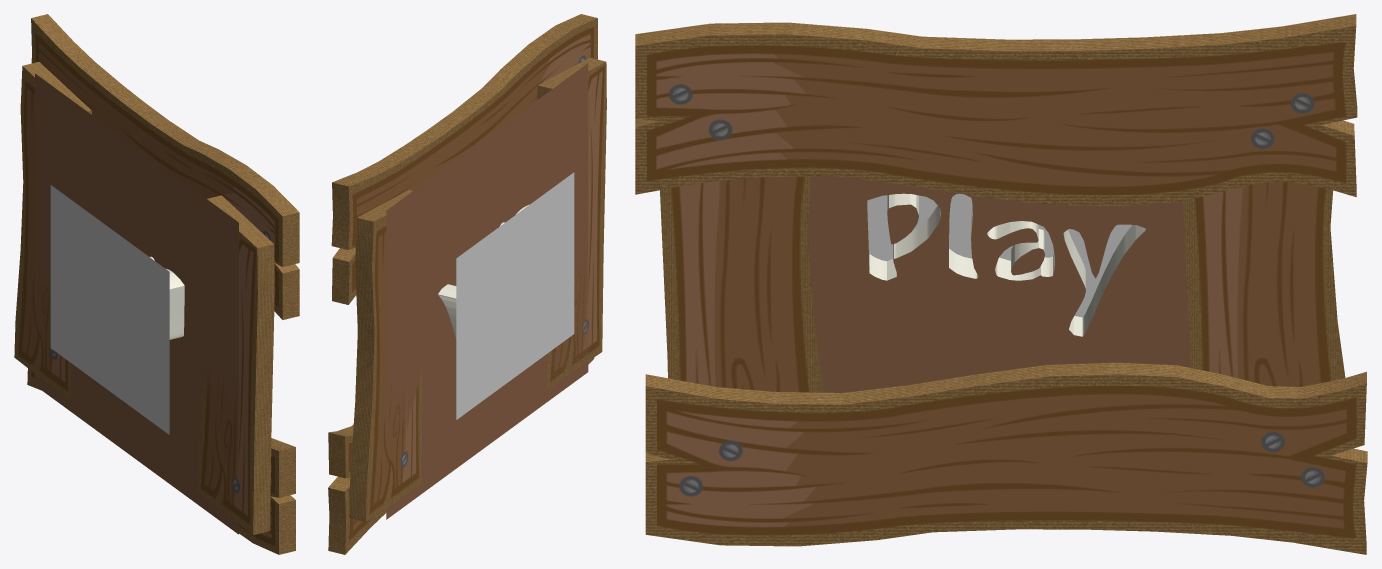
Rendered from Play_button.fbx.
The picture shows the model from 3 angles, left to right: view 1: azimuth 30°, elevation 25°; view 2: azimuth 150°, elevation 25°; view 3: azimuth 270°, elevation 25°; orthographic projection. The views are drawn at different scales.
Visible parts, largest first — view 1: Play_button_combined; view 2: Play_button_combined; view 3: Play_button_combined.
Boxes of the visible parts, left/top/right/bottom form: Play_button_combined: left=14, top=14, right=299, bottom=554; Play_button_combined: left=328, top=14, right=606, bottom=554; Play_button_combined: left=635, top=14, right=1367, bottom=554.
Bounding box in the file's own units: 0.2065 × 1.18 × 1.48.
